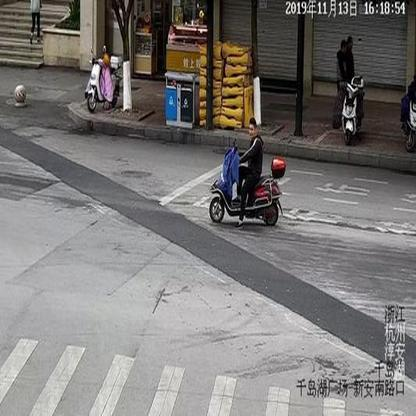target: (210, 117, 285, 229)
